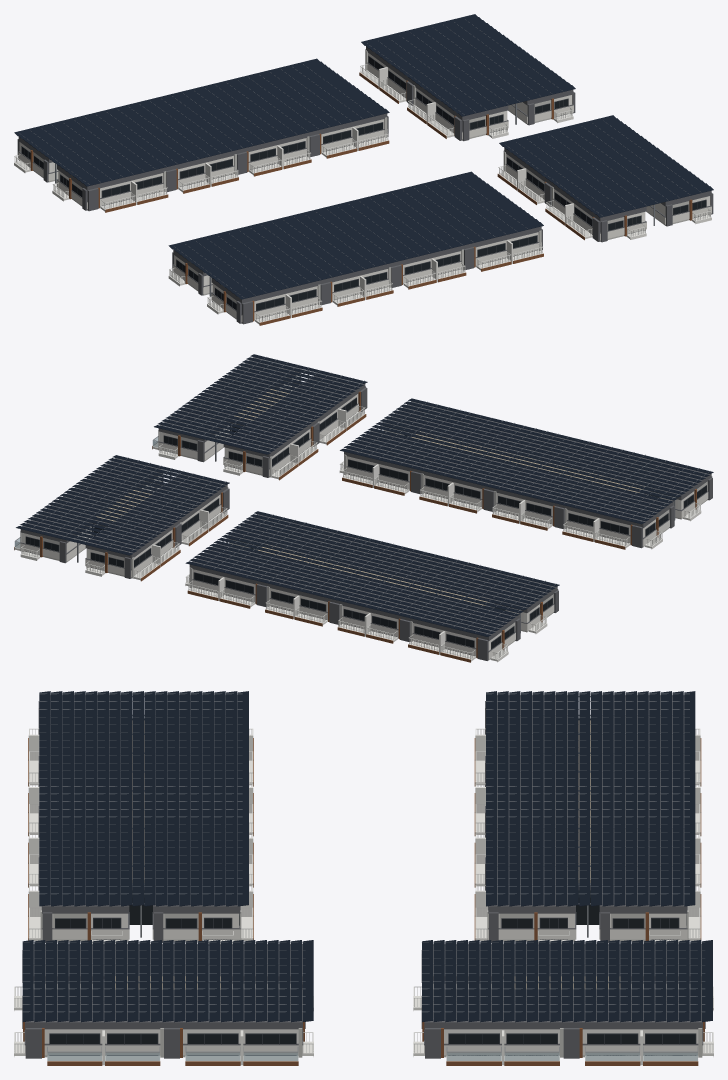
The model's file is towers.glb.
The picture shows the model from 3 angles, top to bottom: view 1: azimuth 30°, elevation 25°; view 2: azimuth 150°, elevation 25°; view 3: azimuth 270°, elevation 25°; orthographic projection. The views are drawn at different scales.
Visible parts, largest first — view 1: EF_roof, DC_roof, A_roof, B_roof, EF_floor, DC_floor, A_floor, B_floor, EF_ground, DC_ground, A_ground, B_ground (+2 smaller); view 2: EF_roof, DC_roof, B_roof, A_roof, EF_ground, DC_ground, EF_floor, DC_floor, A_ground, B_ground, B_floor, A_floor (+2 smaller); view 3: DC_roof, EF_roof, B_roof, A_roof, A_floor, B_floor, DC_floor, EF_floor, EF_ground, DC_ground, A_ground, B_ground (+3 smaller).
Part boxes in pixels (x1,y1,x2,y2): EF_roof: (14, 58, 389, 209); DC_roof: (168, 171, 543, 322); A_roof: (361, 14, 575, 139); B_roof: (499, 115, 713, 240); EF_floor: (14, 116, 388, 212); DC_floor: (168, 229, 542, 324); A_floor: (360, 49, 575, 141); B_floor: (498, 150, 713, 242); EF_ground: (18, 113, 387, 190); DC_ground: (173, 226, 541, 304); A_ground: (366, 46, 573, 121); B_ground: (504, 148, 711, 222); EF_roof: (185, 511, 559, 660); DC_roof: (340, 398, 713, 547); B_roof: (154, 354, 367, 477); A_roof: (16, 455, 229, 577); EF_ground: (189, 514, 557, 640); DC_ground: (344, 401, 711, 528); EF_floor: (185, 543, 558, 662); DC_floor: (339, 430, 712, 549); A_ground: (20, 458, 227, 559); B_ground: (158, 357, 365, 458); B_floor: (152, 372, 367, 479); A_floor: (14, 473, 229, 580); DC_roof: (39, 691, 248, 941); EF_roof: (486, 691, 695, 941); B_roof: (22, 940, 313, 1057); A_roof: (421, 940, 712, 1057); A_floor: (413, 950, 713, 1065); B_floor: (14, 950, 313, 1065); DC_floor: (28, 701, 253, 943); EF_floor: (475, 701, 700, 943); EF_ground: (488, 695, 687, 924); DC_ground: (42, 695, 240, 924); A_ground: (424, 943, 702, 1029); B_ground: (25, 944, 302, 1029).
Size of the model in its own units: 74.66 by 4.19 by 65.39.
